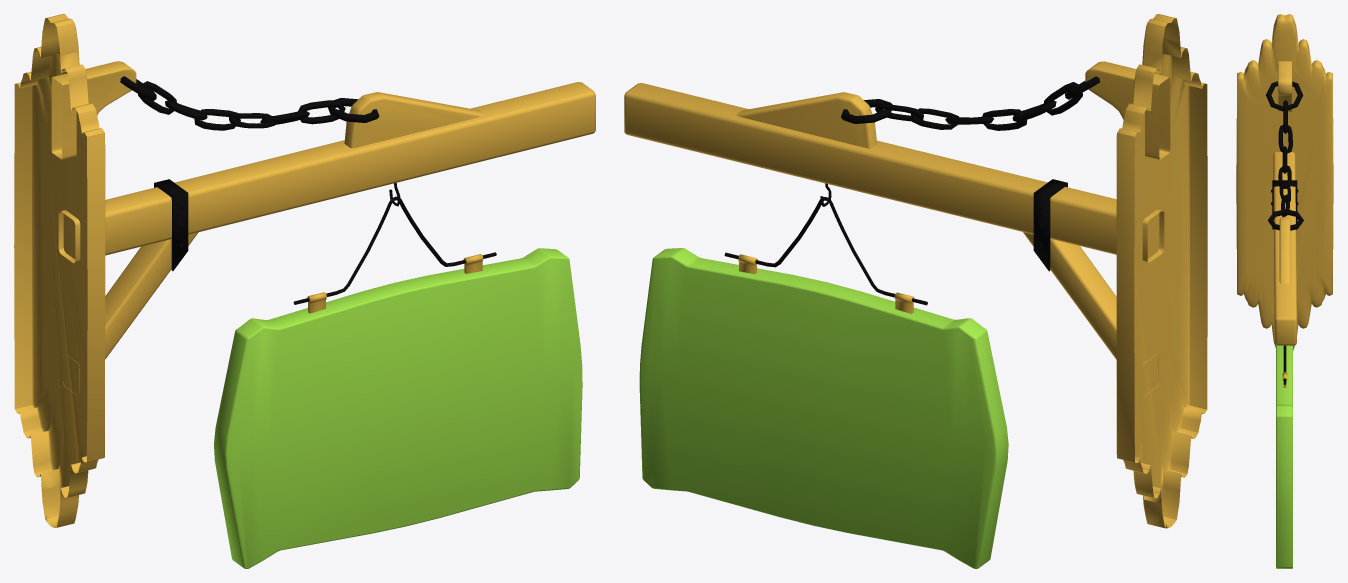
File: mod_cartel.fbx
3 views of the same model, side by side, from view 1: azimuth 30°, elevation 25°; view 2: azimuth 150°, elevation 25°; view 3: azimuth 270°, elevation 25° (orthographic). The views are drawn at different scales.
Visible parts, largest first — view 1: Cartel.002, SoportePared.002, Cube.007, Adorno.001, Soporte2.001, Cadena.001, Complemento.002, Plane.002, BaraHierro.001; view 2: Cartel.002, SoportePared.002, Cube.007, Adorno.001, Soporte2.001, Cadena.001, Complemento.002, Plane.002, BaraHierro.001; view 3: SoportePared.002, Cartel.002, Cube.007, Cadena.001, Adorno.001, Complemento.002, Plane.002.
Part boxes in pixels (x1,y1,x2,y2): Cartel.002: (214, 248, 582, 568); SoportePared.002: (14, 14, 105, 527); Cube.007: (58, 82, 595, 263); Adorno.001: (344, 92, 484, 148); Soporte2.001: (63, 232, 198, 395); Cadena.001: (120, 76, 379, 130); Complemento.002: (51, 61, 136, 159); Plane.002: (154, 179, 188, 270); BaraHierro.001: (293, 196, 496, 304); Cartel.002: (639, 248, 1008, 568); SoportePared.002: (1116, 14, 1207, 528); Cube.007: (624, 83, 1164, 262); Adorno.001: (736, 92, 876, 148); Soporte2.001: (1022, 231, 1158, 395); Cadena.001: (841, 76, 1099, 130); Complemento.002: (1085, 61, 1170, 159); Plane.002: (1033, 179, 1067, 271); BaraHierro.001: (724, 197, 927, 305); SoportePared.002: (1236, 14, 1333, 350); Cartel.002: (1276, 345, 1292, 568); Cube.007: (1273, 152, 1296, 345); Cadena.001: (1266, 81, 1303, 230); Adorno.001: (1279, 217, 1290, 283); Complemento.002: (1278, 61, 1292, 111); Plane.002: (1272, 180, 1297, 229).
Size of the model in its own units: 567 by 594 by 134.
